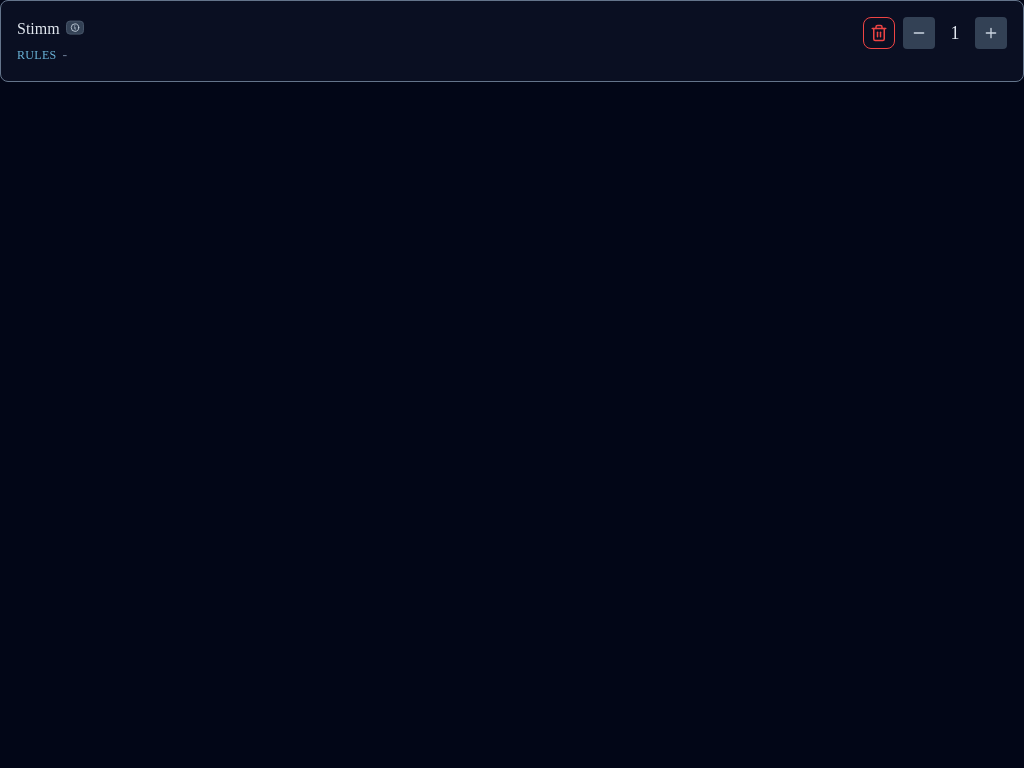
Test case: ConsumableRow › keeps the info button when there is no description and says nothing was recorded
The width and height of the screenshot is (1024, 768).
Click the button named "Show information about Stimm" at (75,28), box left=66, top=21, right=84, bottom=35
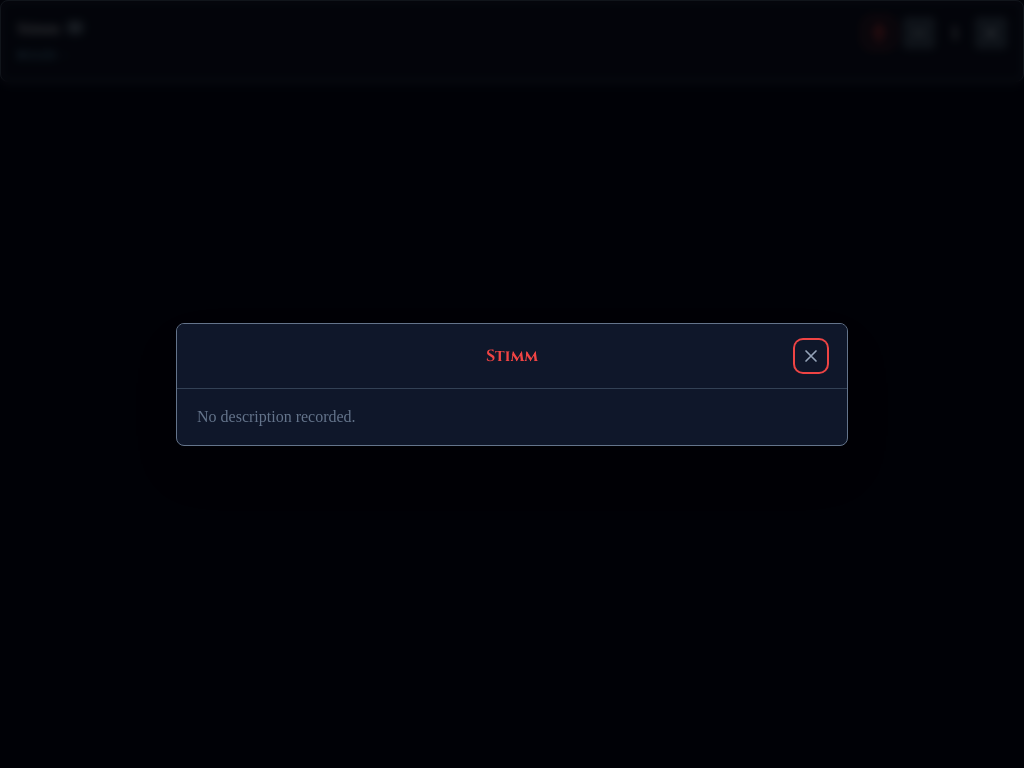
Expected: the text "No description recorded." is shown, left=197, top=408, right=356, bottom=424
